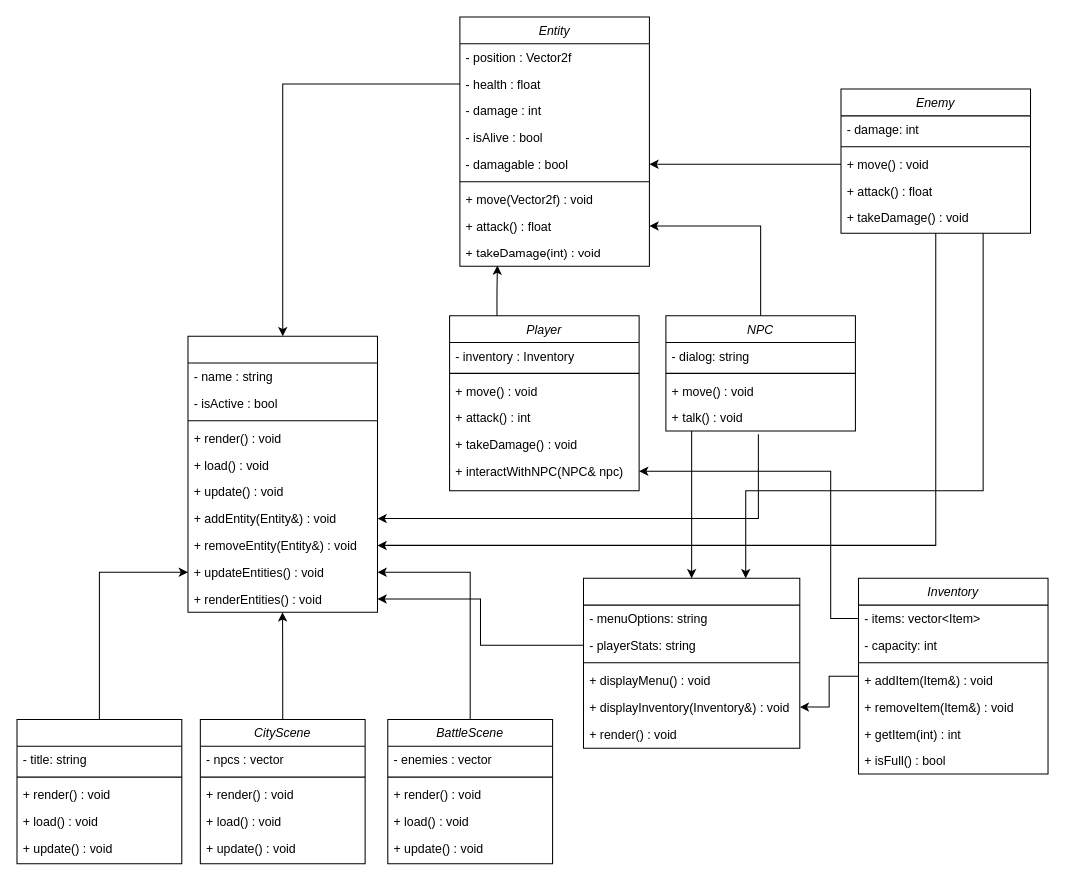
This 1065x881 diagram has some shape labels left out. The box of each missing label's shape, as (x1, y1, x2, y2) in pixels:
SCENE: (187, 335, 377, 612)
TitleScene: (16, 718, 182, 864)
UI: (582, 577, 800, 748)
